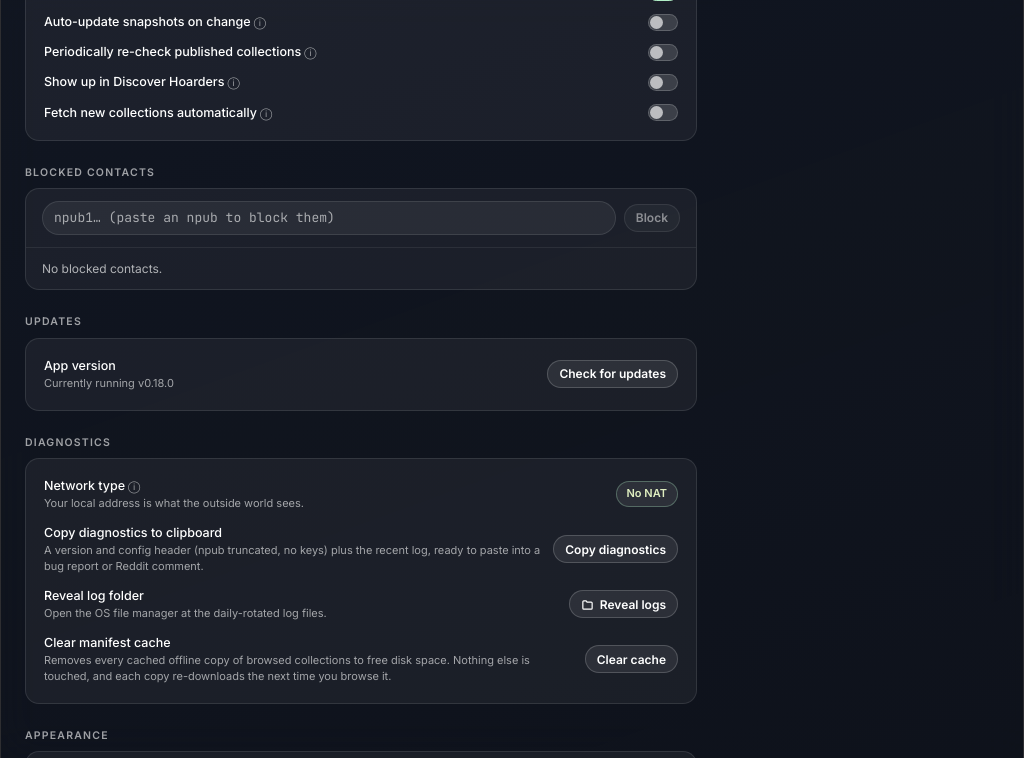
Test: QURATOR-158 — background update check on mount › MANUAL button unchanged: a null result still confirms "Up to date"
(page scrolled)
expect the text "Up to date" is not shown: met
// …but the manual press does.
What coordinates should you click on to do the following:
click the button "Check for updates"
I would click on:
 (613, 374)
Its box is x1=547 y1=360 x2=678 y2=388.
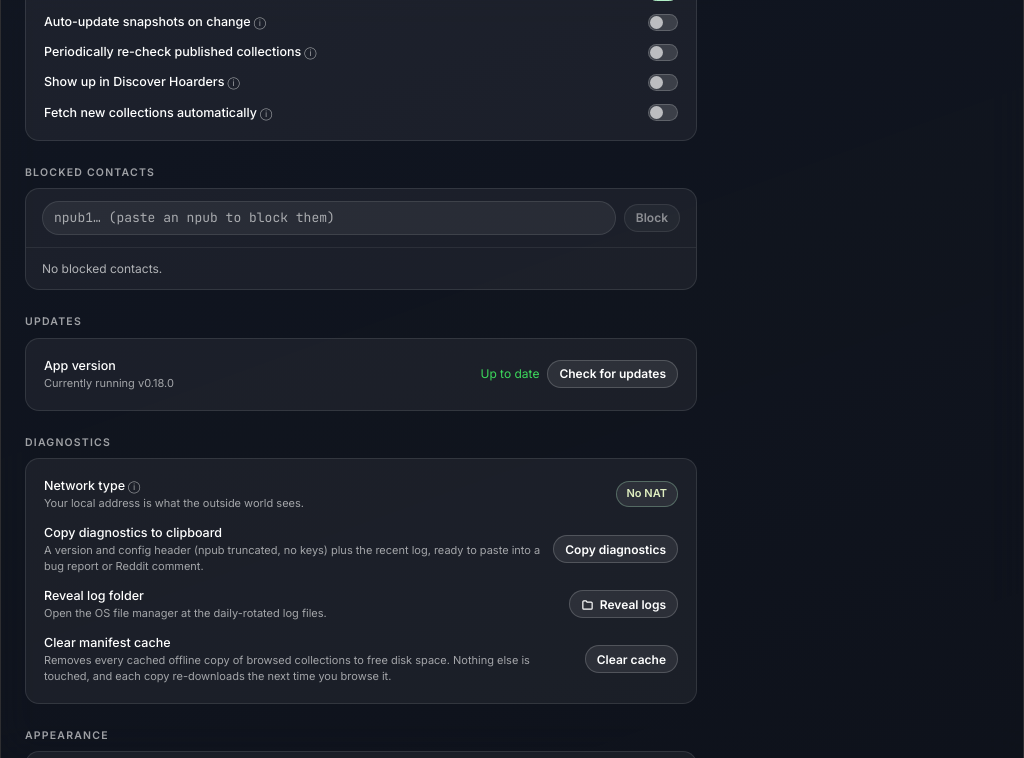
expect the text "Up to date" is shown: met, box x1=480 y1=365 x2=539 y2=383
